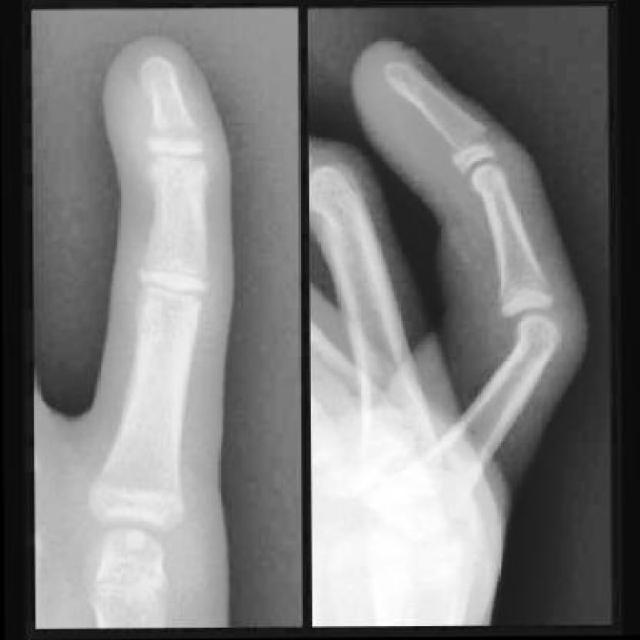Fracture: (446, 118, 494, 159), (149, 111, 205, 145)
